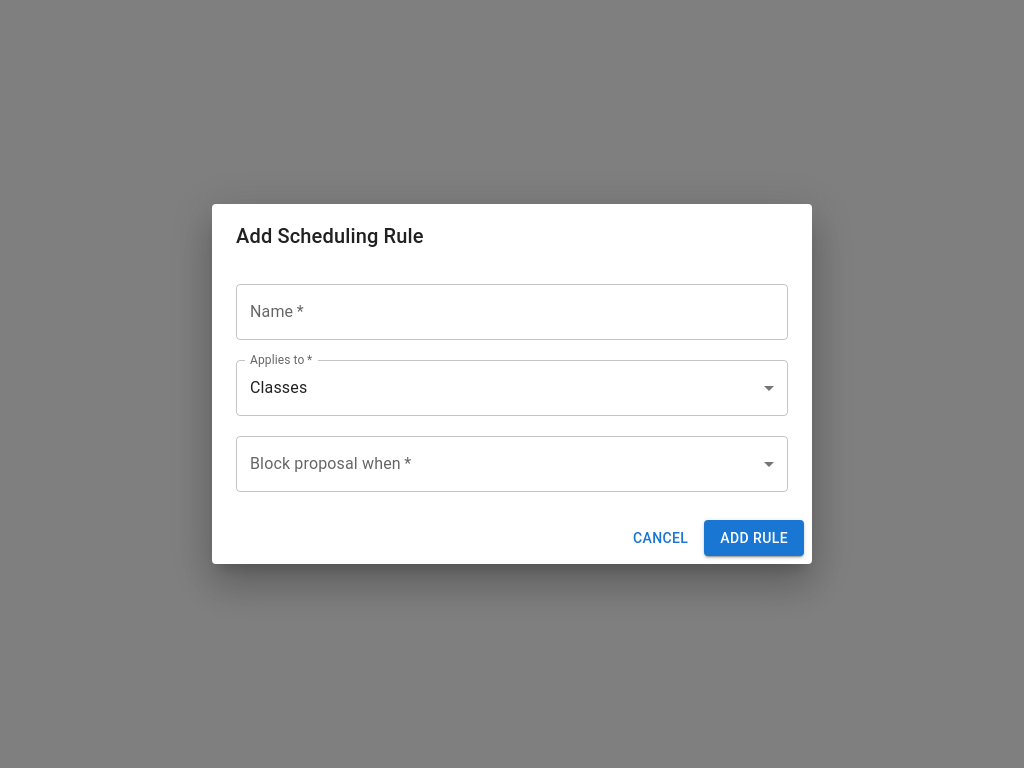
AddConstraintDialog › renders a limit field when consecutive_limit is selected
This screenshot has width=1024, height=768.
Press the mouse on the dropdown named "block proposal when" at (512, 464), box [236,436,788,492]
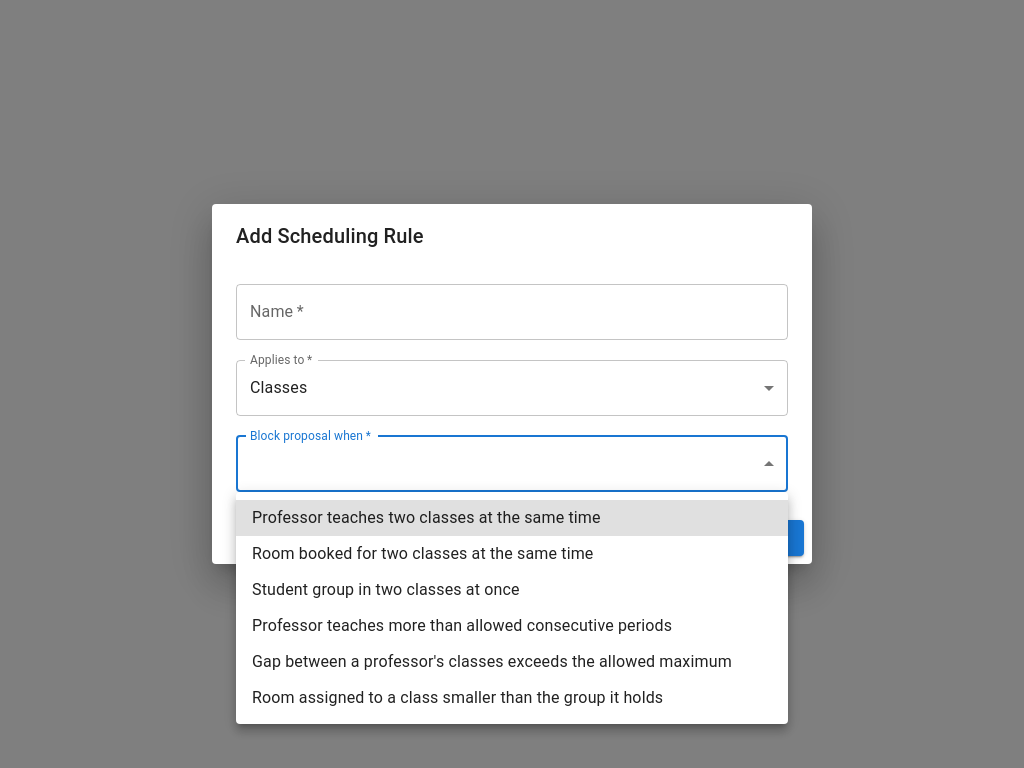
Result: the option "Professor teaches more than allowed consecutive periods" is shown
Click the option "Professor teaches more than allowed consecutive periods" at (462, 626), box [252,616,672,635]
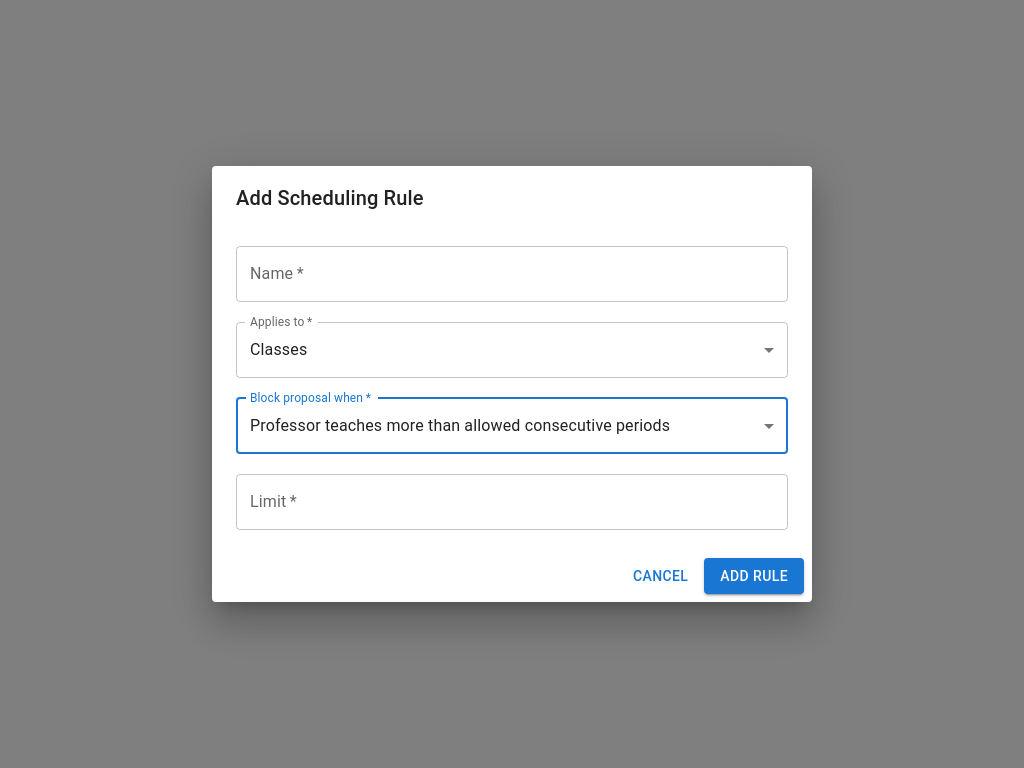
Result: the list is gone
Result: the number field labelled "Limit *" is shown at [236,474,788,530]
